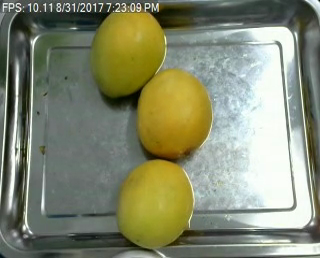Mango: (114, 160, 195, 248), (134, 68, 213, 158), (89, 6, 165, 96)
